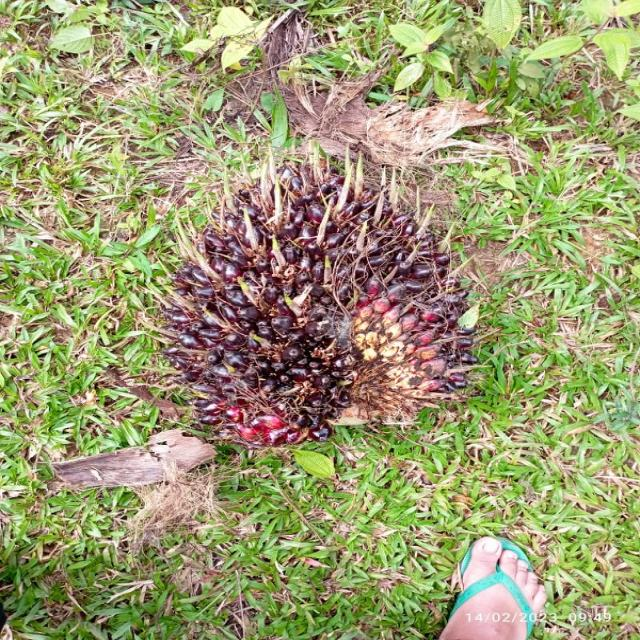fraksi 00: (162, 147, 483, 454)
